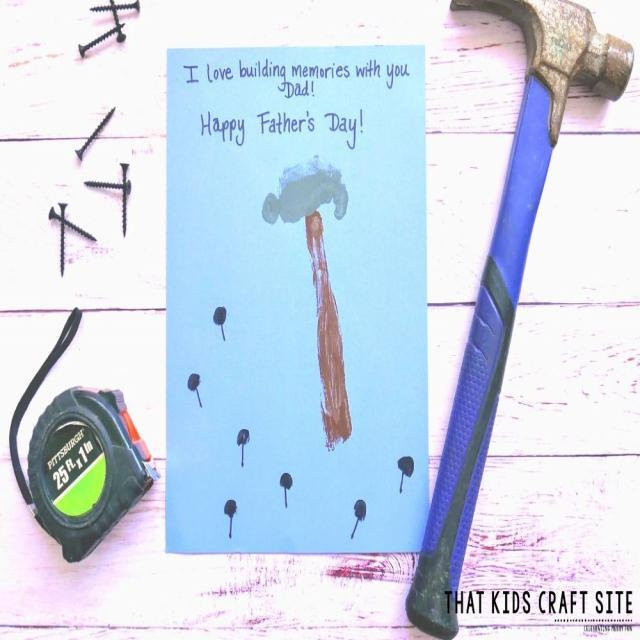hammer: (396, 0, 640, 638), (257, 140, 365, 449)
